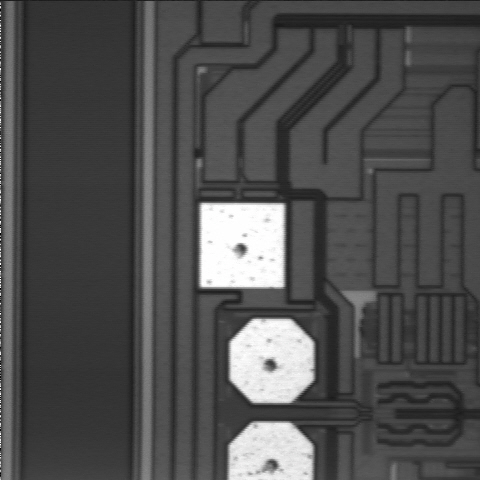pad: (200, 203, 284, 288), (230, 319, 314, 403)
